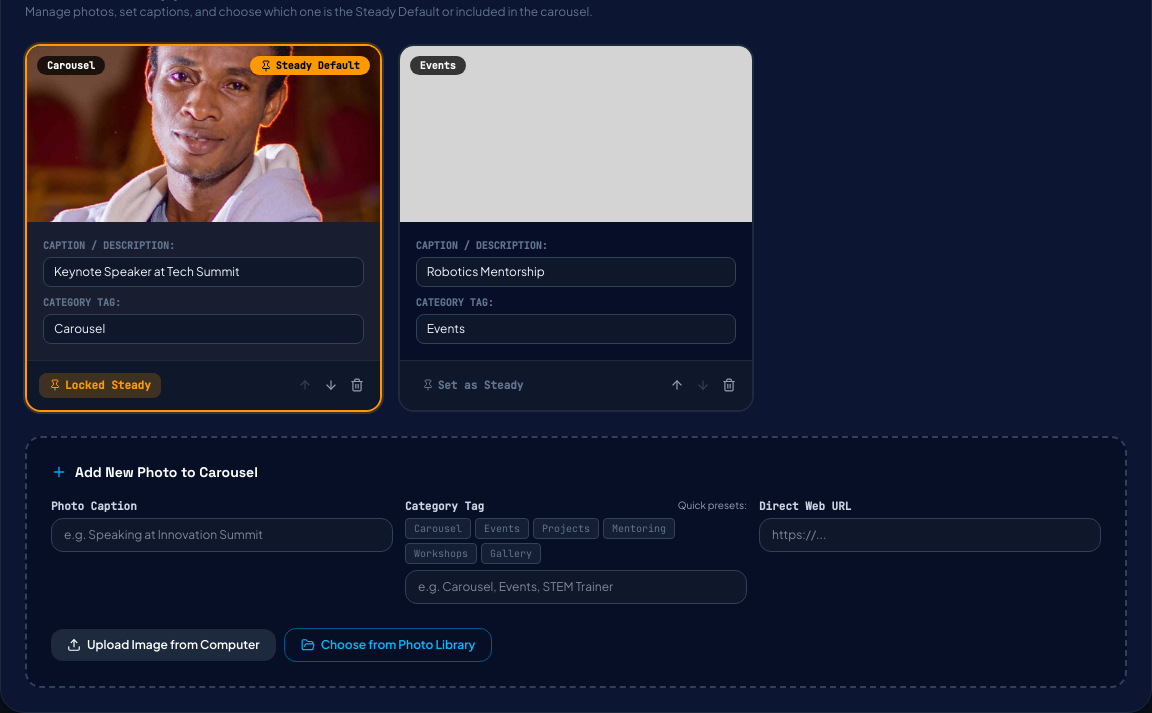
CarouselSettingsManager Integration › allows clicking quick preset chips to set Category Tag
(page scrolled)
Click the button "Mentoring": point(639, 528) [603,518,675,539]
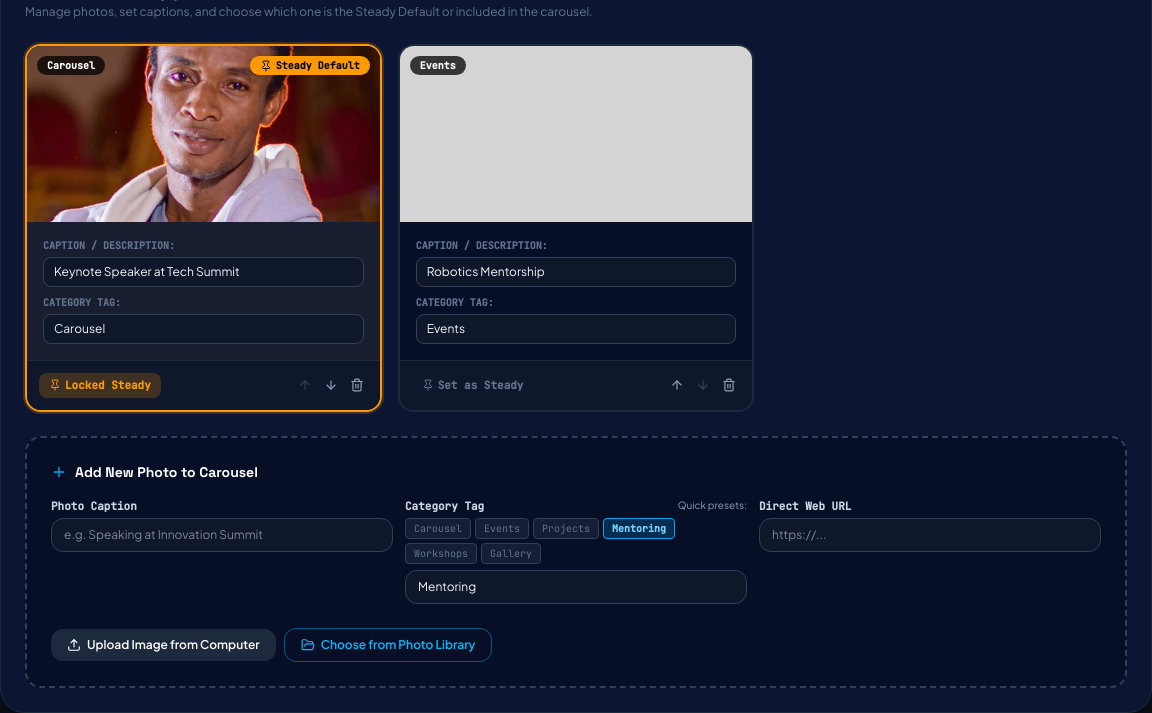
Check: the field with placeholder "e.g. Carousel, Events, STEM Trainer" below "Quick presets:" holds "Mentoring", box [405,570,747,604]
